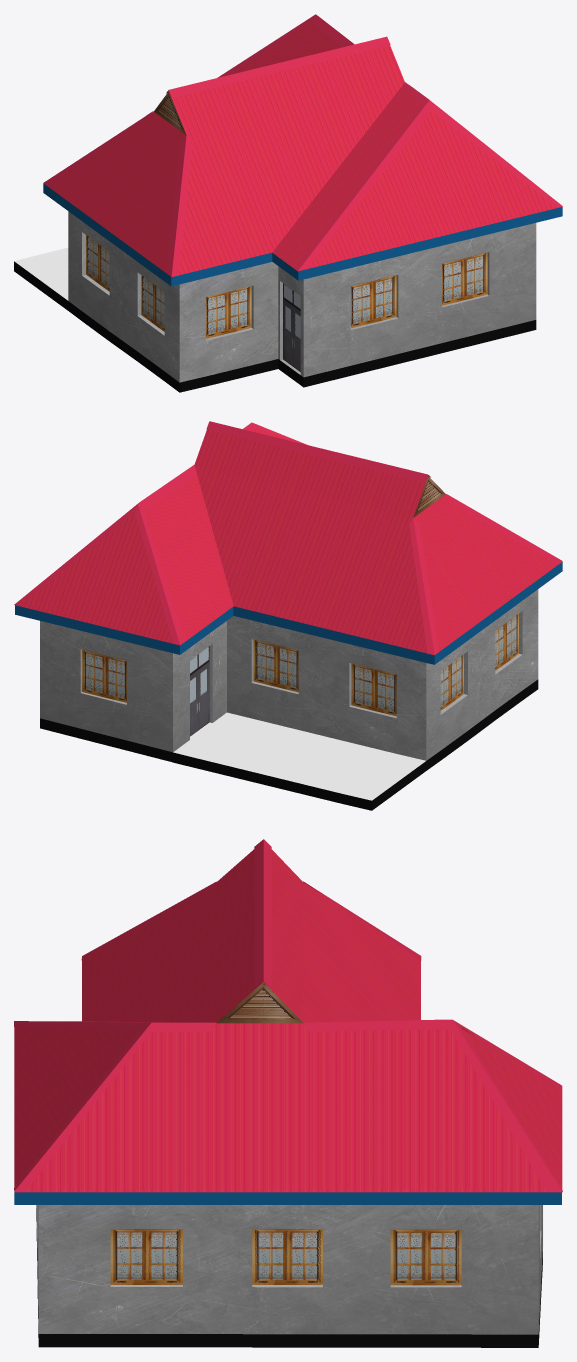
File: fbx_house.fbx
3 views of the same model, one above another, from view 1: azimuth 30°, elevation 25°; view 2: azimuth 150°, elevation 25°; view 3: azimuth 270°, elevation 25° (orthographic). The views are drawn at different scales.
Parts seen in each view (by area): view 1: roof_s2, house, roof_s1, roof_s3, window_4, window_5, window_6, door, window_8, window_7; view 2: roof_s2, house, roof_s1, roof_s3, window_2, window_1, window_3, door, window_8, window_7; view 3: roof_s2, house, roof_s1, roof_s3, window_11, window_9, window_10.
Part boxes in pixels (x1,y1,x2,y2): roof_s2: (48,22,562,276); house: (14,211,536,392); roof_s1: (43,14,562,276); roof_s3: (43,183,562,286); window_4: (442,252,487,305); window_5: (351,275,396,327); window_6: (206,286,251,338); door: (283,283,300,371); window_8: (141,275,164,331); window_7: (86,235,109,291); roof_s2: (16,428,562,655); house: (40,589,538,810); roof_s1: (14,421,562,654); roof_s3: (15,562,562,664); window_2: (351,663,396,716); window_1: (253,639,298,692); window_3: (82,649,126,702); door: (190,646,209,736); window_8: (495,614,518,670); window_7: (440,654,463,710); roof_s2: (14,849,562,1192); house: (36,1205,543,1347); roof_s1: (14,839,562,1192); roof_s3: (14,1192,561,1204); window_11: (390,1229,461,1285); window_9: (110,1229,182,1284); window_10: (252,1229,322,1284).
Size of what is drawn, in the model's own units: 476 by 306 by 467.
